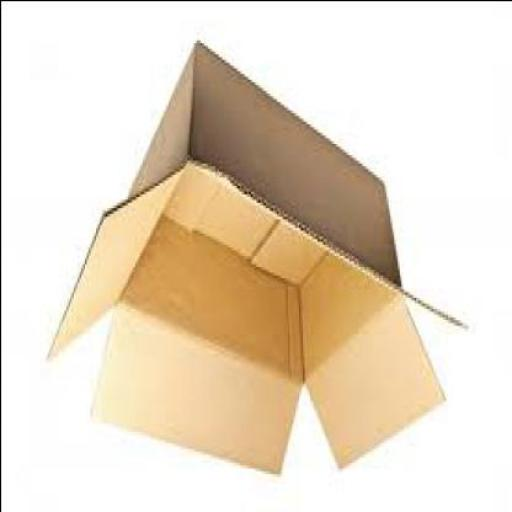cardboard: (42, 43, 464, 478)
